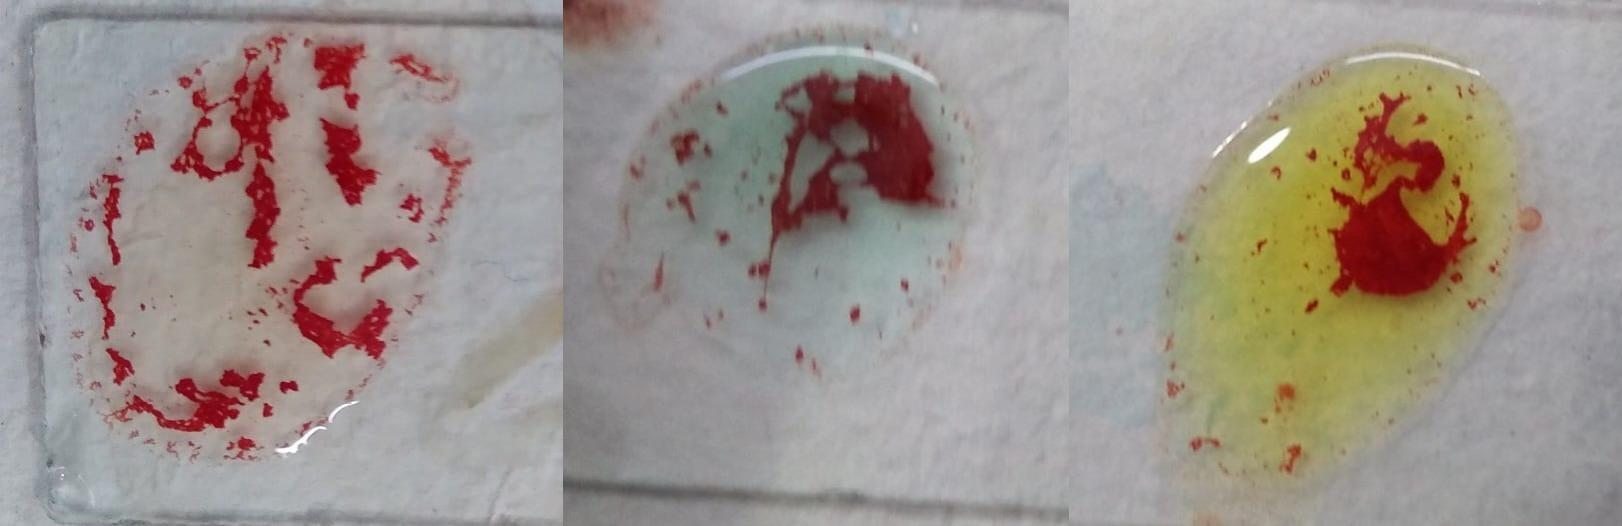A: (622, 30, 968, 396)
B: (1175, 32, 1526, 513)
D: (68, 25, 455, 468)
